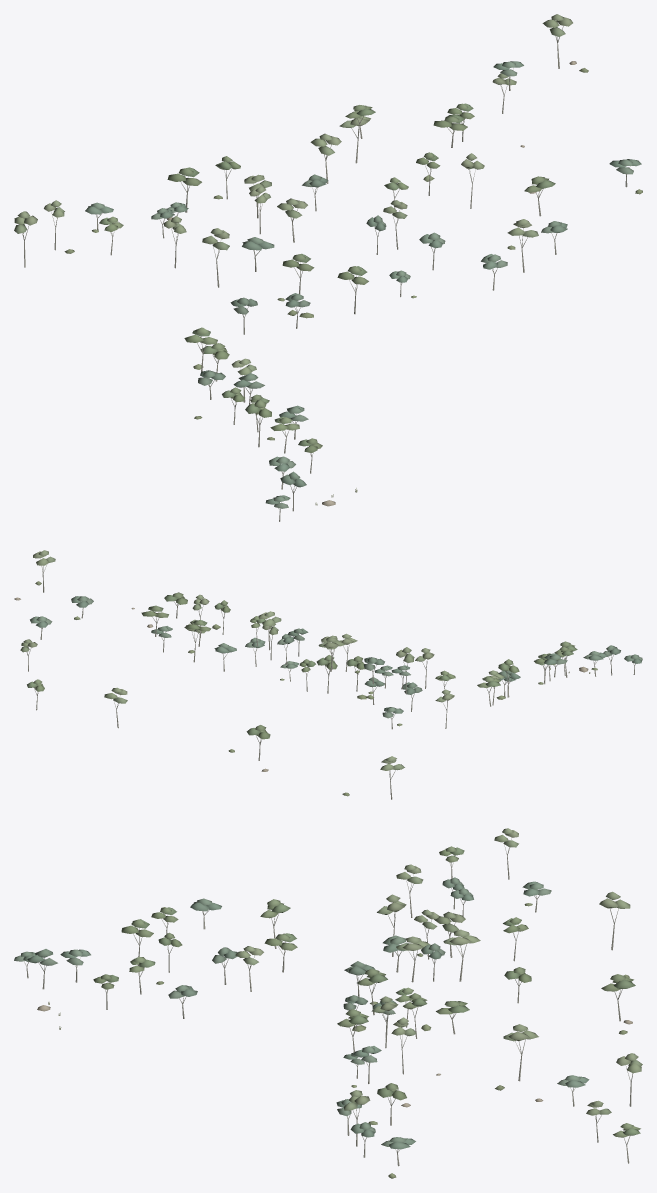
3 views of the same model, one above another, from view 1: azimuth 30°, elevation 25°; view 2: azimuth 150°, elevation 25°; view 3: azimuth 270°, elevation 25° (orthographic). The views are drawn at different scales.
Visible parts, largest first — view 1: Stage2 Vegetation Sector 02; view 2: Stage2 Vegetation Sector 02; view 3: Stage2 Vegetation Sector 02.
Part boxes in pixels (x1,y1,x2,y2): Stage2 Vegetation Sector 02: [14, 14, 642, 521]; Stage2 Vegetation Sector 02: [14, 550, 642, 799]; Stage2 Vegetation Sector 02: [14, 828, 642, 1178].
Bounding box in the file's own units: 169 × 60.75 × 158.
